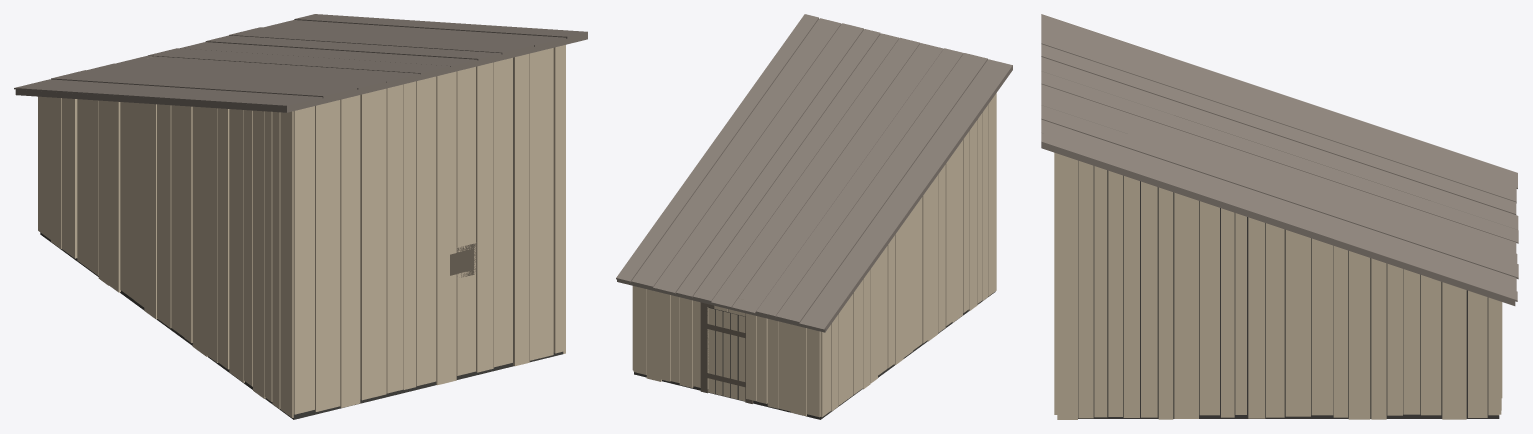
Rendered from recon_1835_south_d2_005__inferred_1835.glb.
3 renders of one model, left to right at view 1: azimuth 30°, elevation 25°; view 2: azimuth 150°, elevation 25°; view 3: azimuth 270°, elevation 25°, orthographic. The views are drawn at different scales.
Visible parts, largest first — view 1: recon_1835_south_d2_005__inferred_1835; view 2: recon_1835_south_d2_005__inferred_1835; view 3: recon_1835_south_d2_005__inferred_1835.
Part boxes in pixels (x1=…): recon_1835_south_d2_005__inferred_1835: x1=14, y1=14, x2=587, y2=419; recon_1835_south_d2_005__inferred_1835: x1=616, y1=14, x2=1012, y2=419; recon_1835_south_d2_005__inferred_1835: x1=1041, y1=14, x2=1518, y2=419.
Size of the model in its own units: 4.75 by 4.91 by 7.47.
